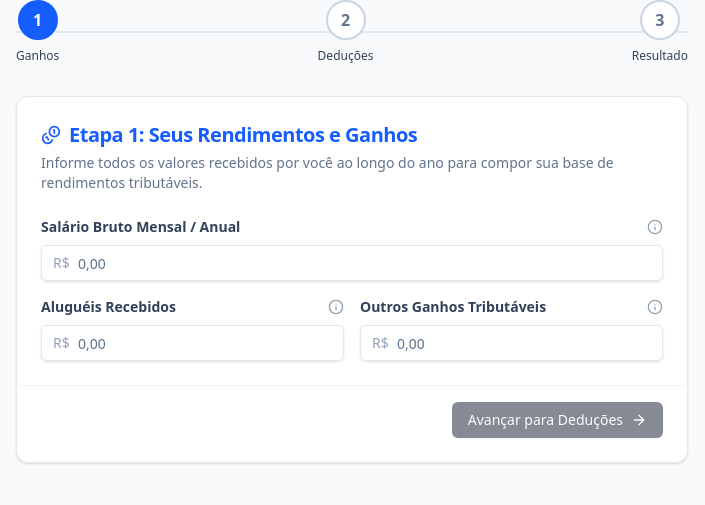
Test: WizardForm Component › deve exibir mensagem de erro para valores negativos
The image size is (705, 505).
In the number field labelled "Salário Bruto Mensal / Anual": (352,263) [41,245,663,281], type "-100"
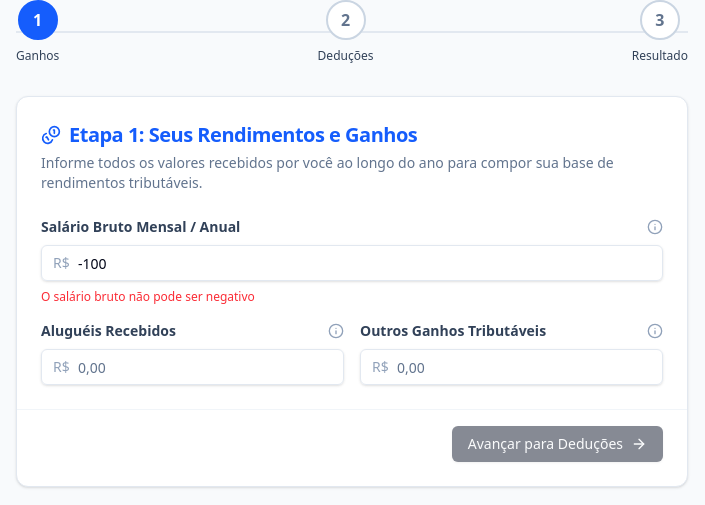
Expected: the text "O salário bruto não pode ser negativo" is shown, [41,288,255,305]
